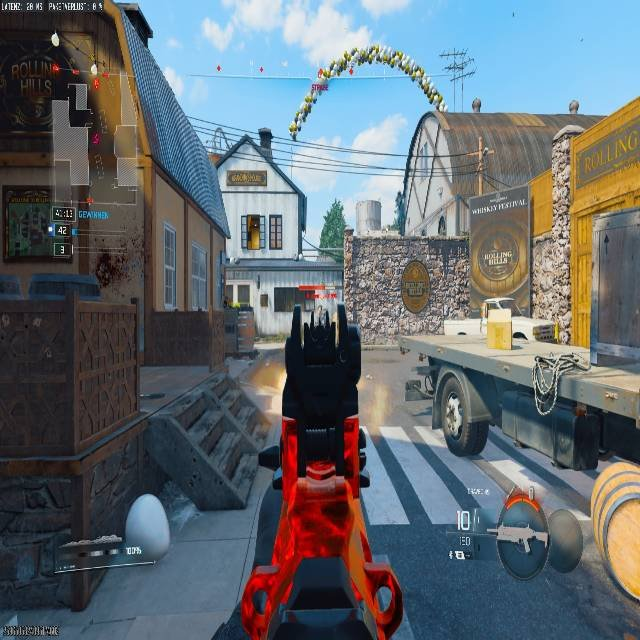player: (93, 251, 120, 291), (313, 300, 326, 326)
